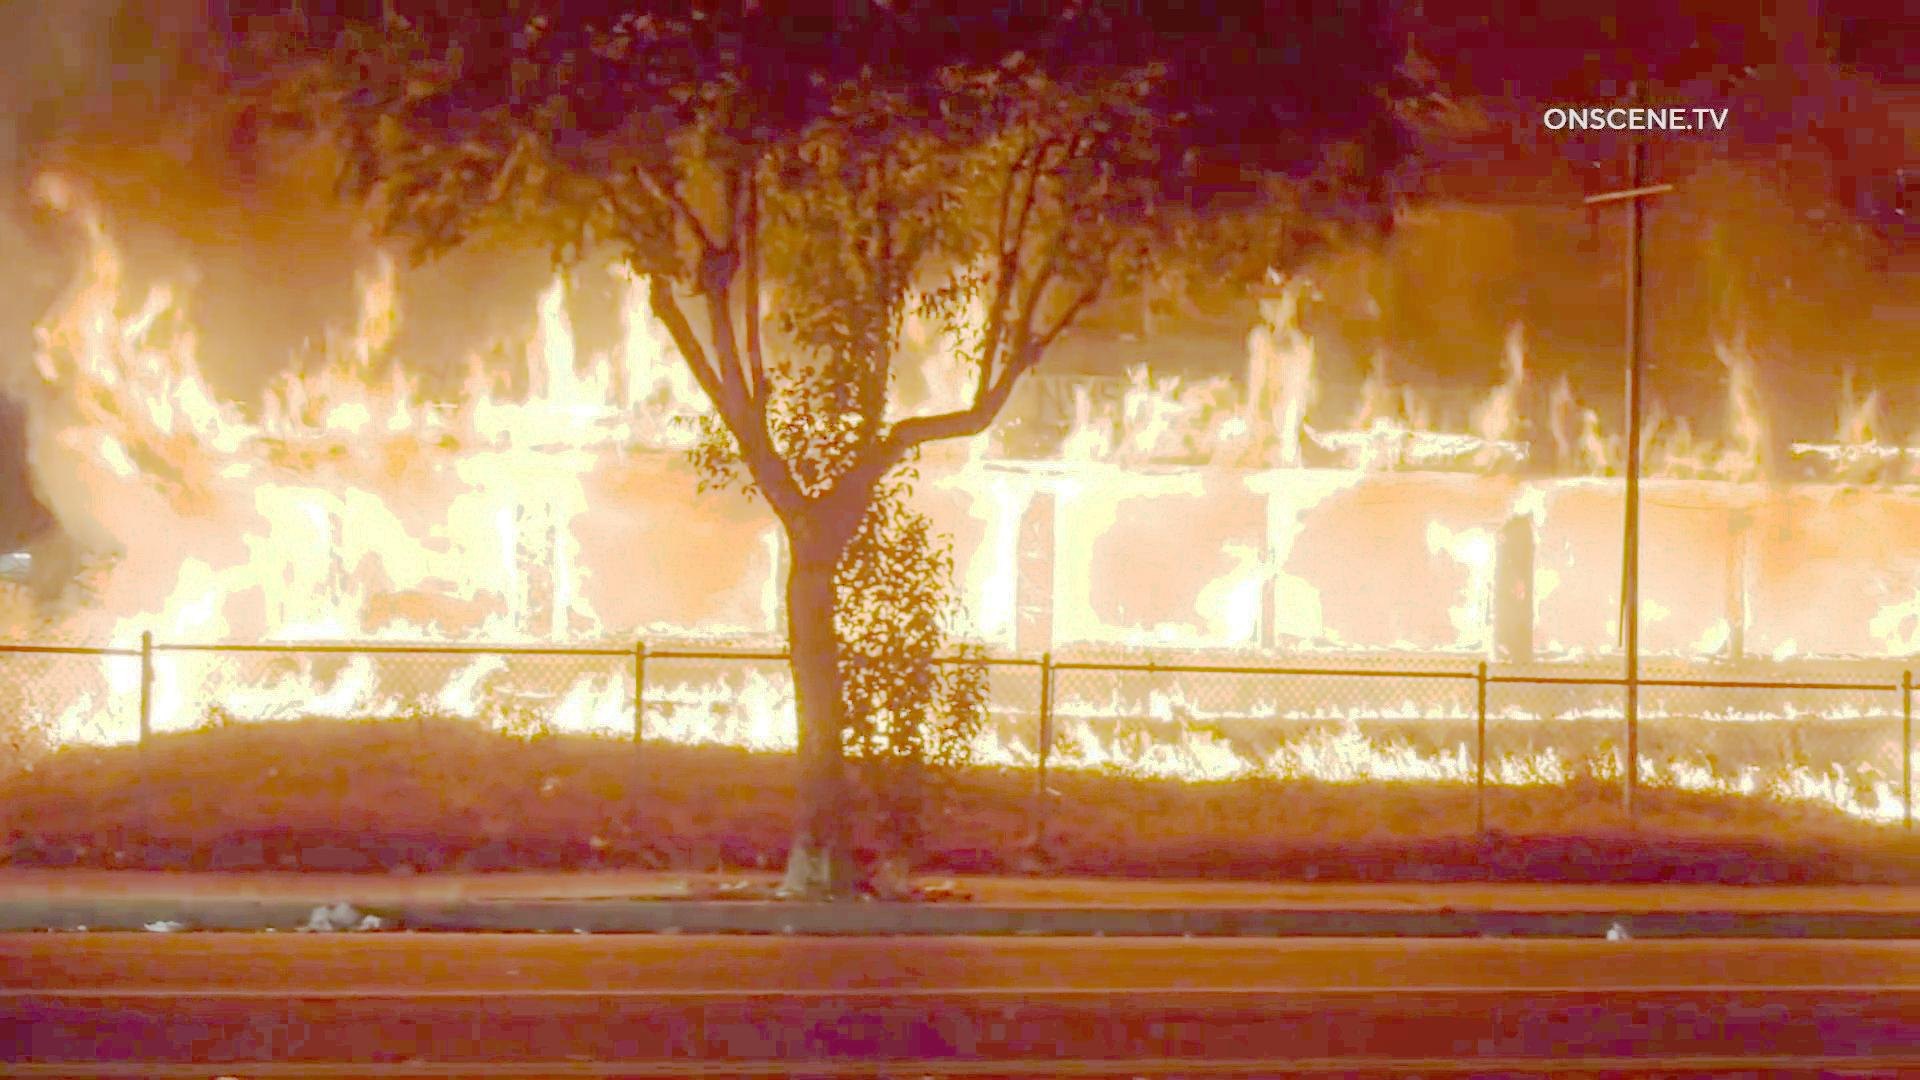fire: (1021, 313, 1916, 778), (1335, 335, 1766, 781), (330, 273, 748, 716), (16, 164, 318, 716), (1023, 284, 1336, 786)
